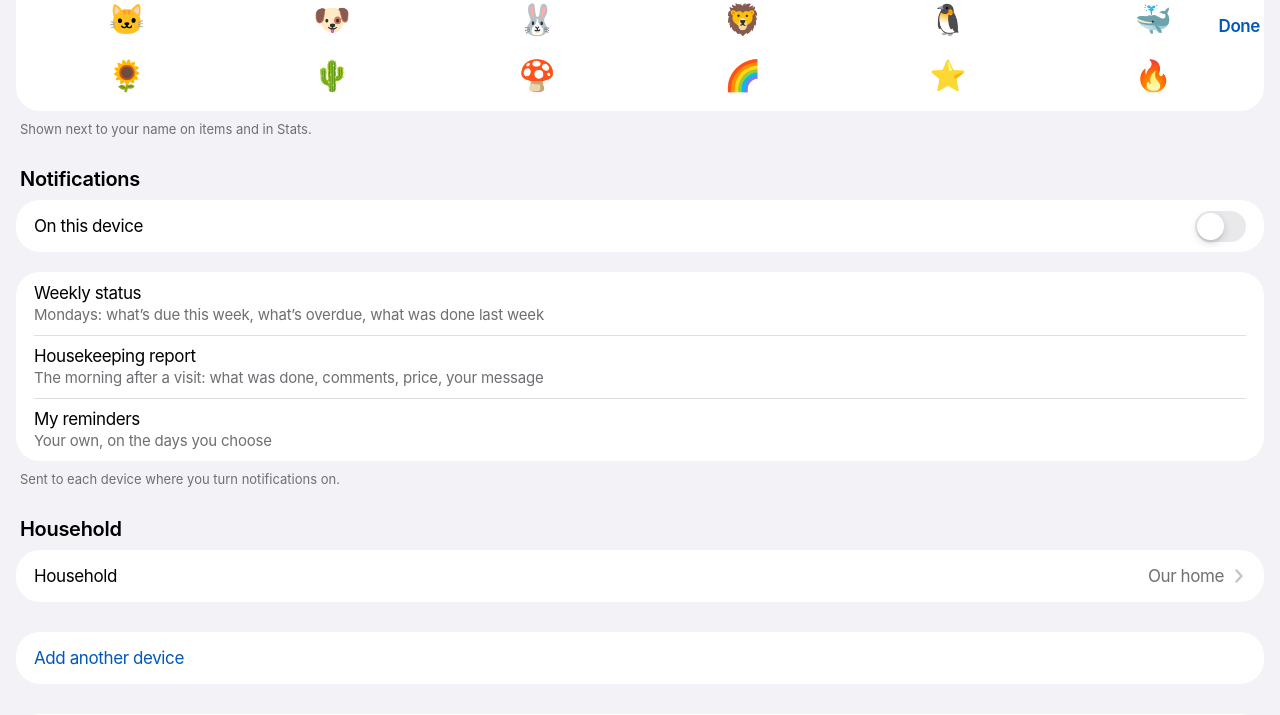
it: Profile > Notifications in server mode: my reminders › lists them once My reminders is ticked, each with its days and the morning
The image size is (1280, 715).
(page scrolled)
Expected: the checkbox labelled "Weekly status" is enabled, [16,272,1264,335]
Click the checkbox labelled "My reminders".
click(87, 419)  # box [16,398,1264,461]
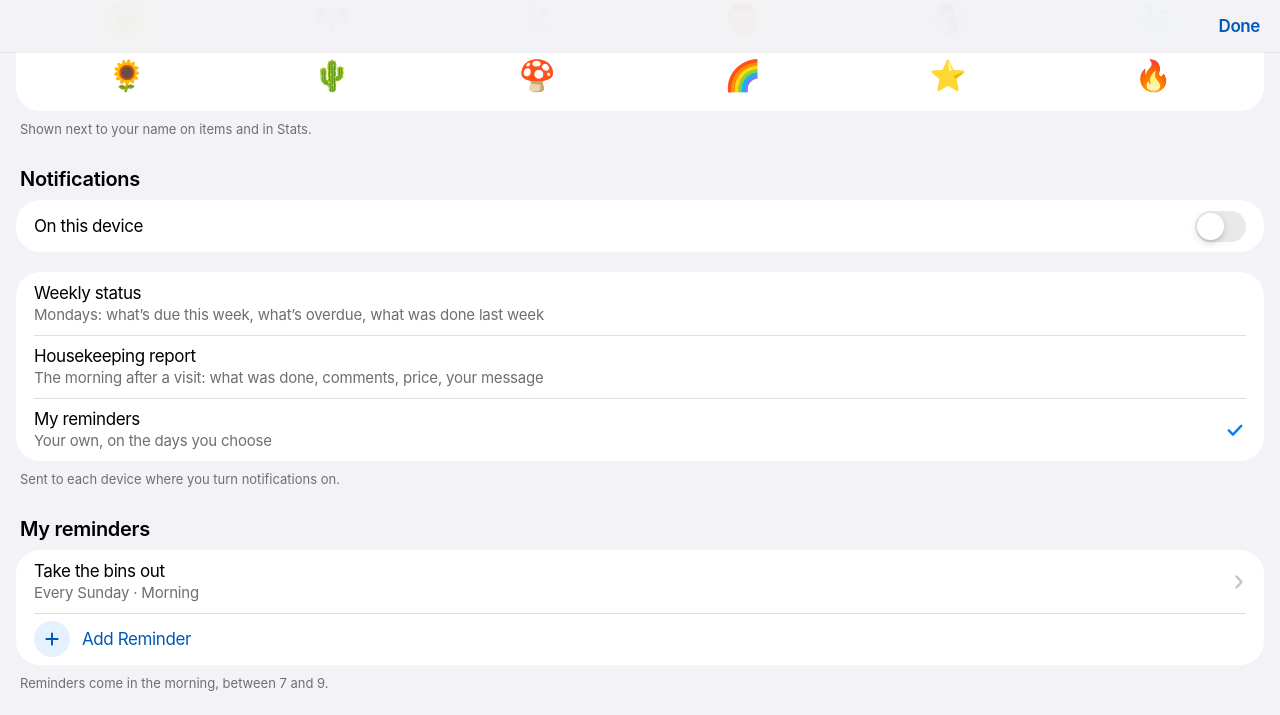
Result: the heading "My reminders" is shown at [20,517,150,541]
Result: the button "Take the bins out Every Sunday · Morning" is shown at [16,550,1264,613]
Result: the button "Add Reminder" is shown at [16,613,1264,665]
